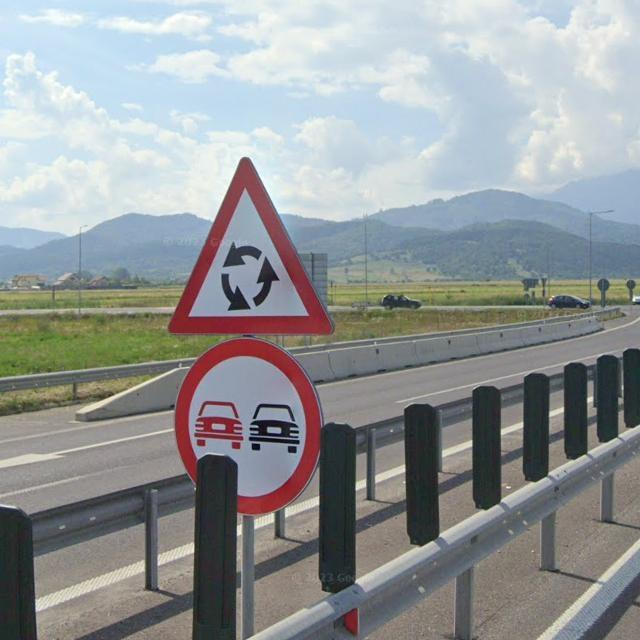forb_overtake: (177, 339, 323, 517)
